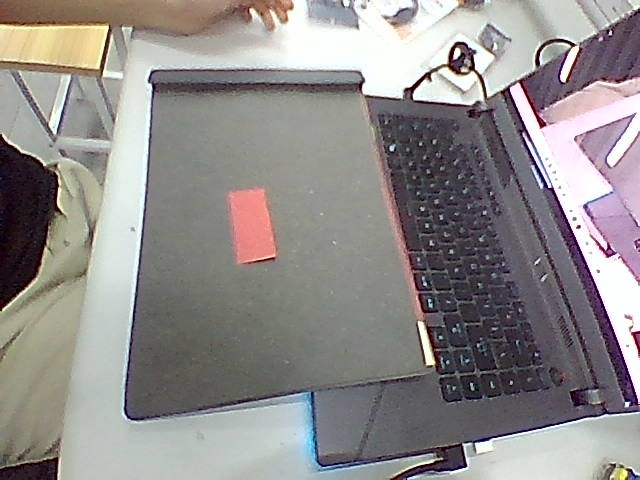card: (228, 188, 276, 263)
